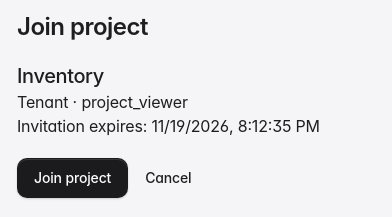
Test case: handles consumed acceptance response loss without replaying acceptance
The image size is (392, 217).
Click the button "Join project": (73, 178) left=17, top=158, right=128, bottom=198
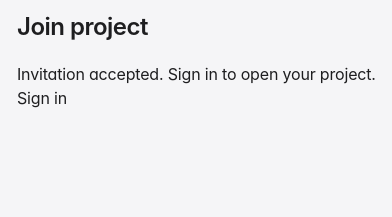
Expected: the link "Sign in" is shown, left=17, top=88, right=67, bottom=108
